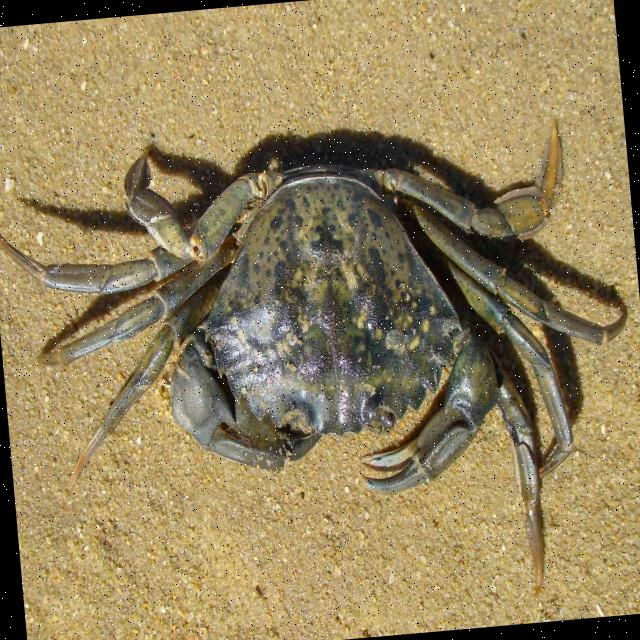green_crab: (0, 117, 630, 601)
